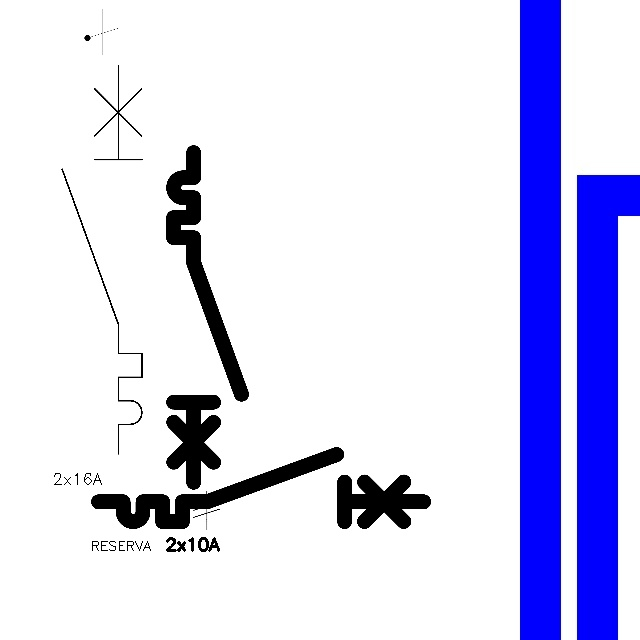interruptor_termomagnetico: (52, 55, 152, 464), (165, 144, 250, 491), (90, 446, 432, 530)
